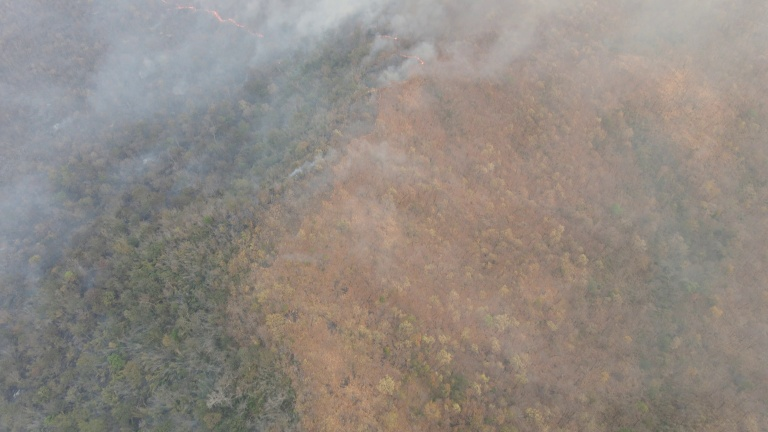fire: (161, 1, 264, 40), (374, 28, 427, 70)
smoke: (1, 1, 372, 288), (375, 1, 768, 80)
